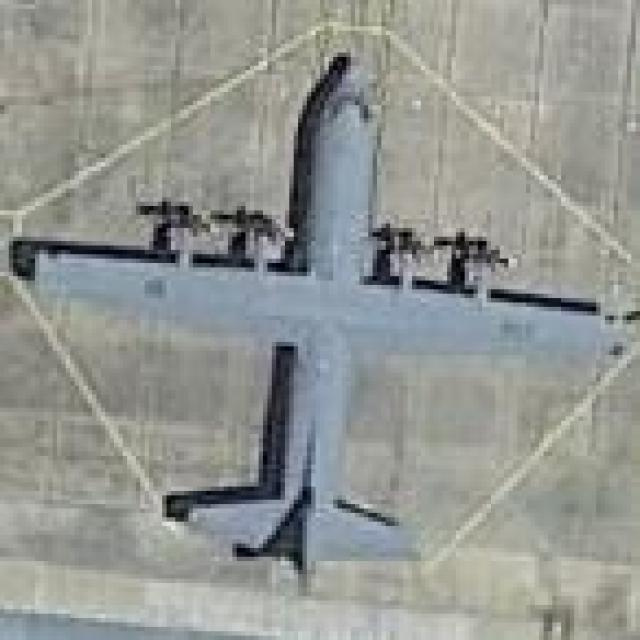C-130_TopDown: (15, 41, 613, 592)
